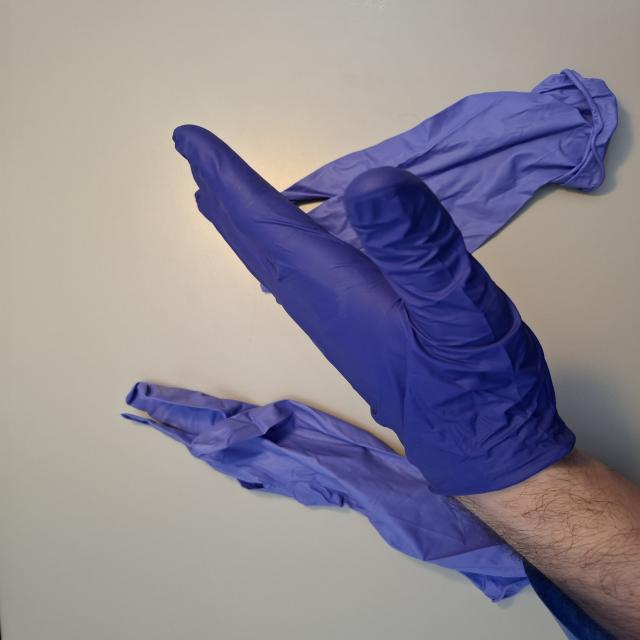glove_on: (168, 122, 574, 500)
